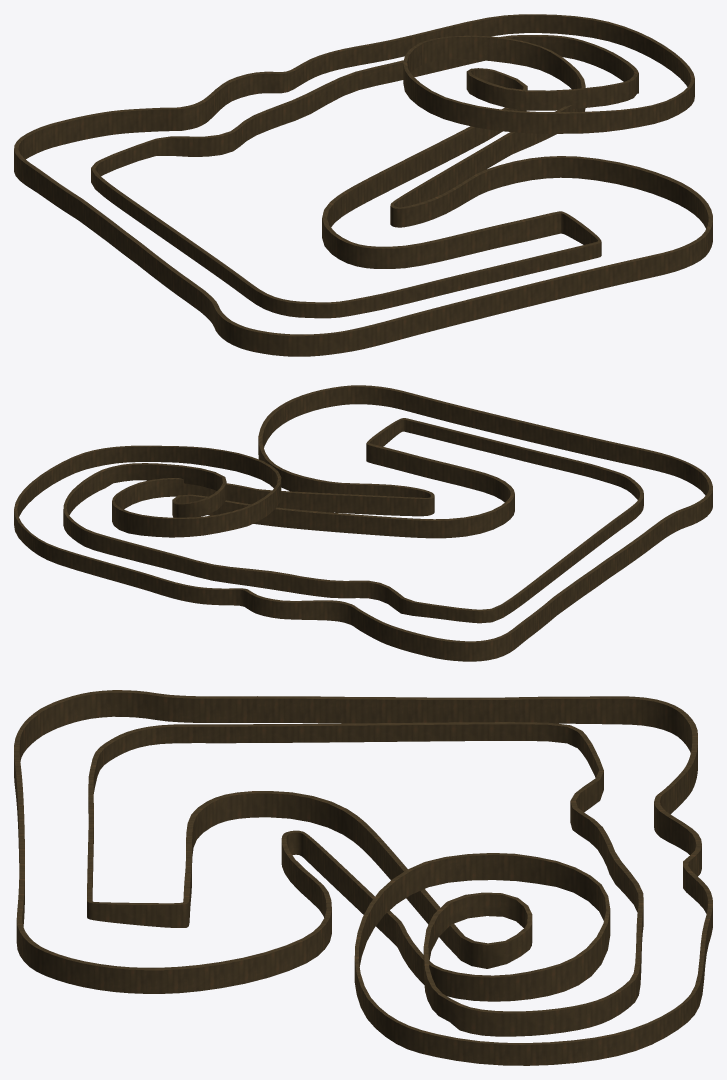
File: NoDivotLoopWalls.fbx
3 views of the same model, one above another, from view 1: azimuth 30°, elevation 25°; view 2: azimuth 150°, elevation 25°; view 3: azimuth 270°, elevation 25° (orthographic). The views are drawn at different scales.
Visible parts, largest first — view 1: Track_Walls; view 2: Track_Walls; view 3: Track_Walls.
Boxes of the visible parts, left/top/right/bottom form: Track_Walls: left=14, top=14, right=712, bottom=356; Track_Walls: left=14, top=385, right=712, bottom=661; Track_Walls: left=14, top=690, right=712, bottom=1065.
Bounding box in the file's own units: 78127 × 6880 × 65264.
